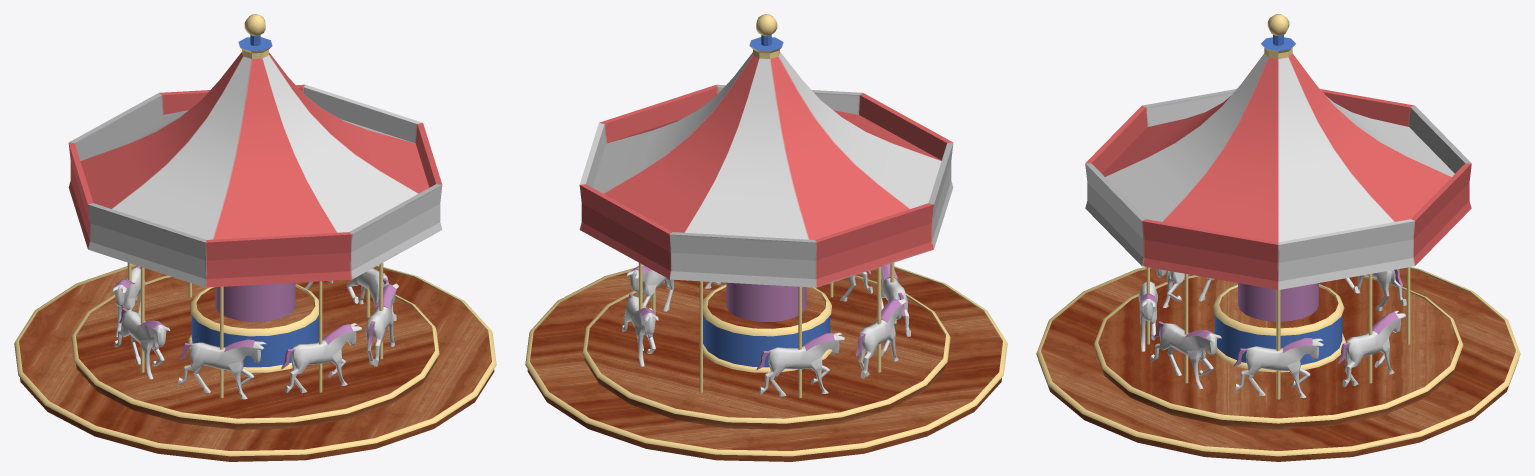
File: Carousel_WithoutUnicon.fbx
3 views of the same model, side by side, from view 1: azimuth 30°, elevation 25°; view 2: azimuth 150°, elevation 25°; view 3: azimuth 270°, elevation 25° (orthographic).
Parts seen in each view (by area): view 1: polySurface1; view 2: polySurface1; view 3: polySurface1.
Part boxes in pixels (x1,y1,x2,y2): polySurface1: [14, 14, 496, 461]; polySurface1: [525, 14, 1007, 461]; polySurface1: [1036, 14, 1520, 461].
Bounding box in the file's own units: 24.22 × 19.07 × 24.22.
